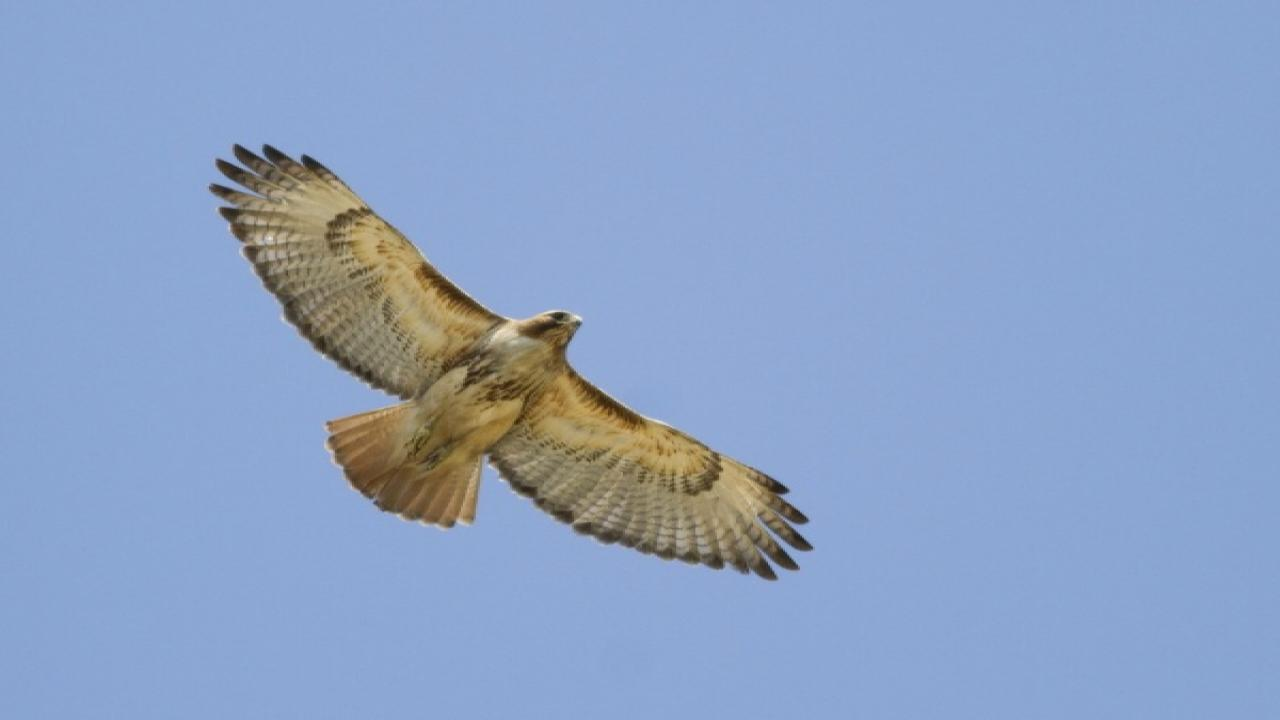Bird: (202, 134, 822, 586)
